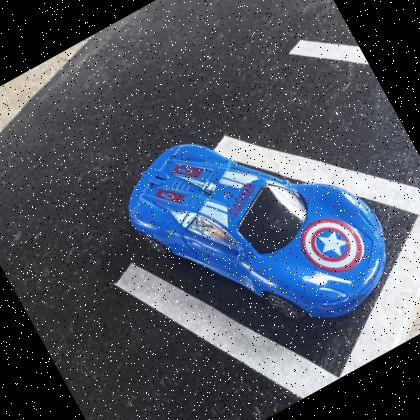Car: (128, 144, 388, 320)
